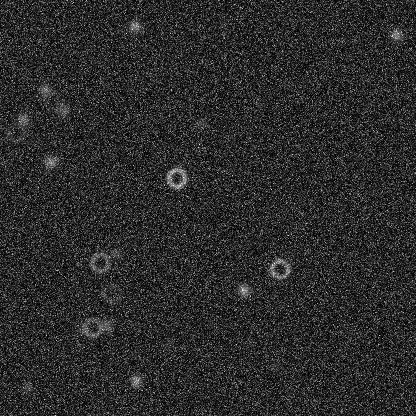Ring: (164, 165, 188, 189), (3, 120, 27, 144), (80, 315, 104, 339), (87, 250, 111, 274), (40, 88, 64, 112), (99, 281, 123, 305), (267, 256, 291, 280)
Spot: (191, 116, 207, 132), (214, 14, 230, 30), (158, 339, 174, 355), (98, 317, 114, 333), (108, 244, 124, 260), (15, 111, 31, 127), (55, 103, 71, 119), (73, 322, 89, 338), (126, 18, 142, 34), (18, 379, 34, 395), (235, 281, 251, 297), (127, 372, 143, 388), (388, 27, 404, 43), (265, 357, 281, 373), (36, 81, 52, 97), (42, 153, 58, 169)
